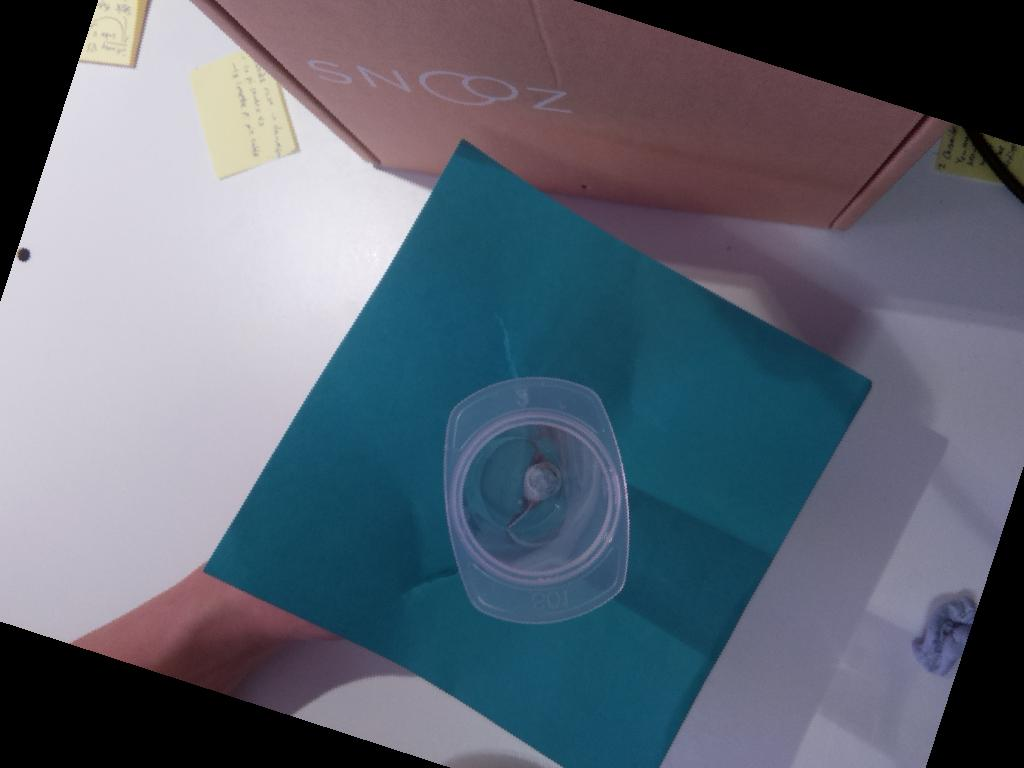clean: (434, 373, 630, 625)
